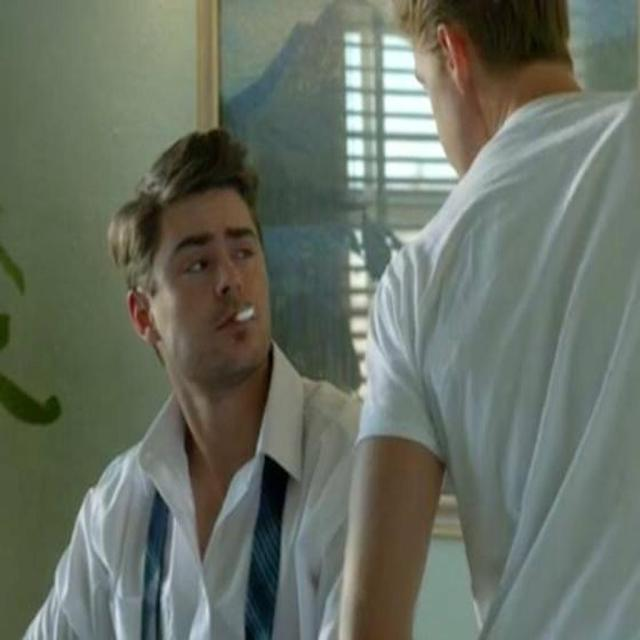smoking: (134, 147, 285, 391)
